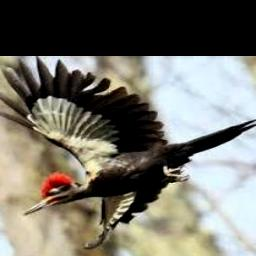Woodpecker: (0, 56, 256, 248)
